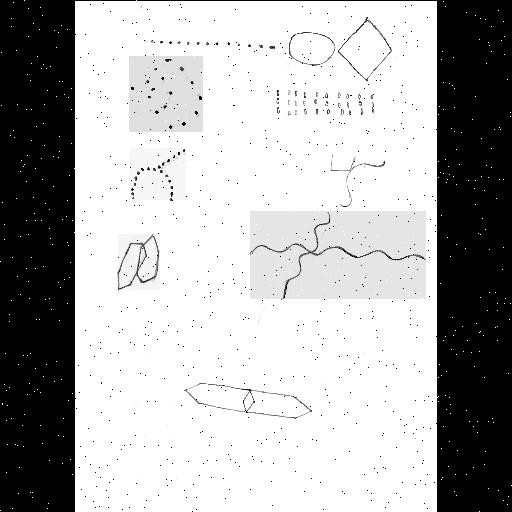shape-1: (290, 16, 394, 80)
shape-2: (146, 36, 274, 54)
shape-3: (274, 86, 372, 114)
shape-4: (129, 56, 203, 132)
shape-5: (330, 152, 386, 206)
shape-6: (130, 148, 186, 200)
shape-7: (250, 211, 426, 299)
shape-8: (118, 234, 160, 290)
shape-9: (182, 382, 312, 420)
